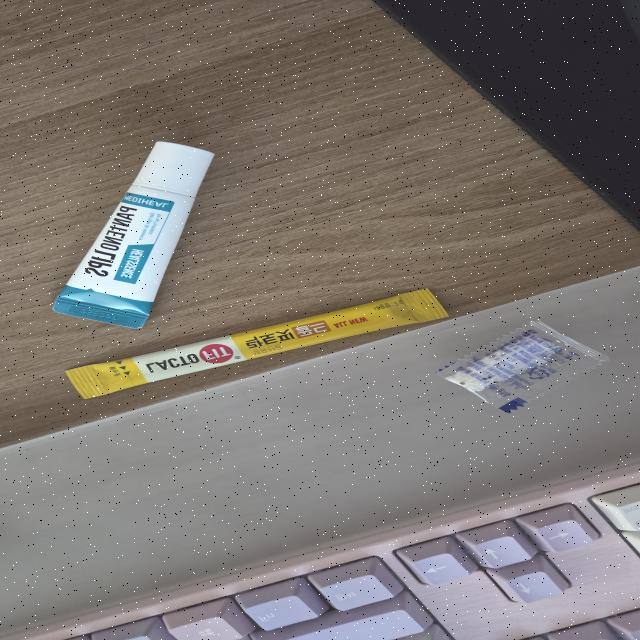lacto: (62, 286, 448, 400)
lib: (53, 139, 220, 329)
salt: (433, 317, 614, 415)
